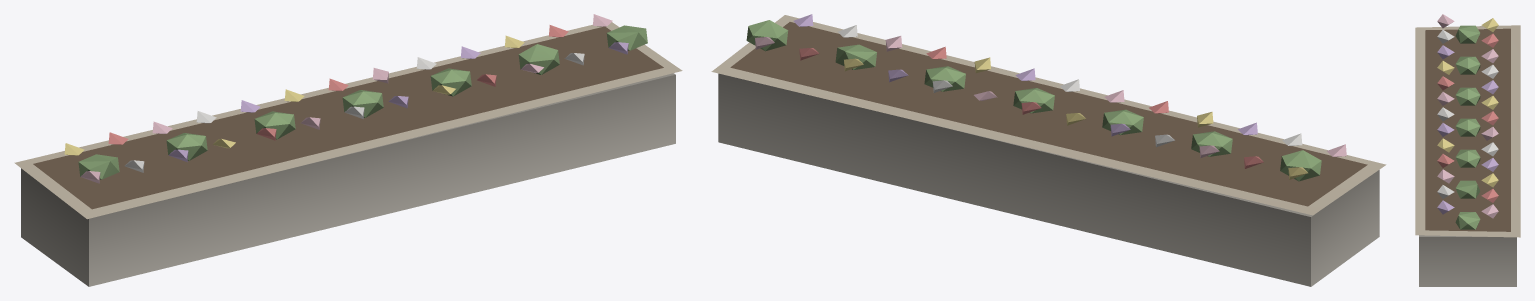
The model's file is roof_flowerbed_long__4_low.glb.
3 views of the same model, side by side, from view 1: azimuth 30°, elevation 25°; view 2: azimuth 150°, elevation 25°; view 3: azimuth 270°, elevation 25° (orthographic). The views are drawn at different scales.
Parts seen in each view (by area): view 1: roof.flowerbed_long__4; view 2: roof.flowerbed_long__4; view 3: roof.flowerbed_long__4.
Part boxes in pixels (bbox=[...]): roof.flowerbed_long__4: bbox=[14, 14, 682, 286]; roof.flowerbed_long__4: bbox=[711, 14, 1386, 286]; roof.flowerbed_long__4: bbox=[1415, 14, 1520, 286].
Size of the model in its own units: 4.06 by 0.6497 by 0.86.
